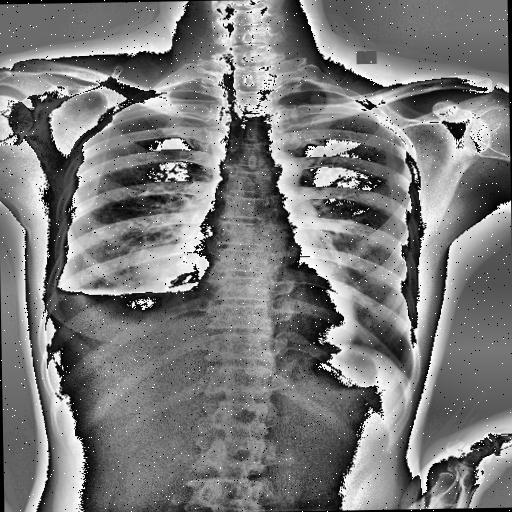10- Pleural effusion: (58, 189, 204, 359), (41, 284, 203, 354), (48, 284, 211, 326)
12- Pneumothorax: (58, 189, 204, 359), (53, 189, 96, 290)
